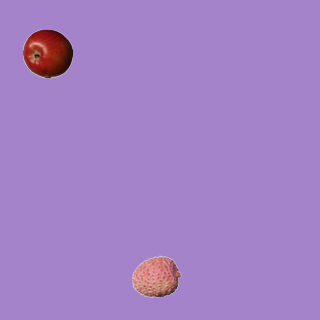Apple Braeburn: (22, 28, 72, 78)
Lychee: (131, 251, 181, 301)
